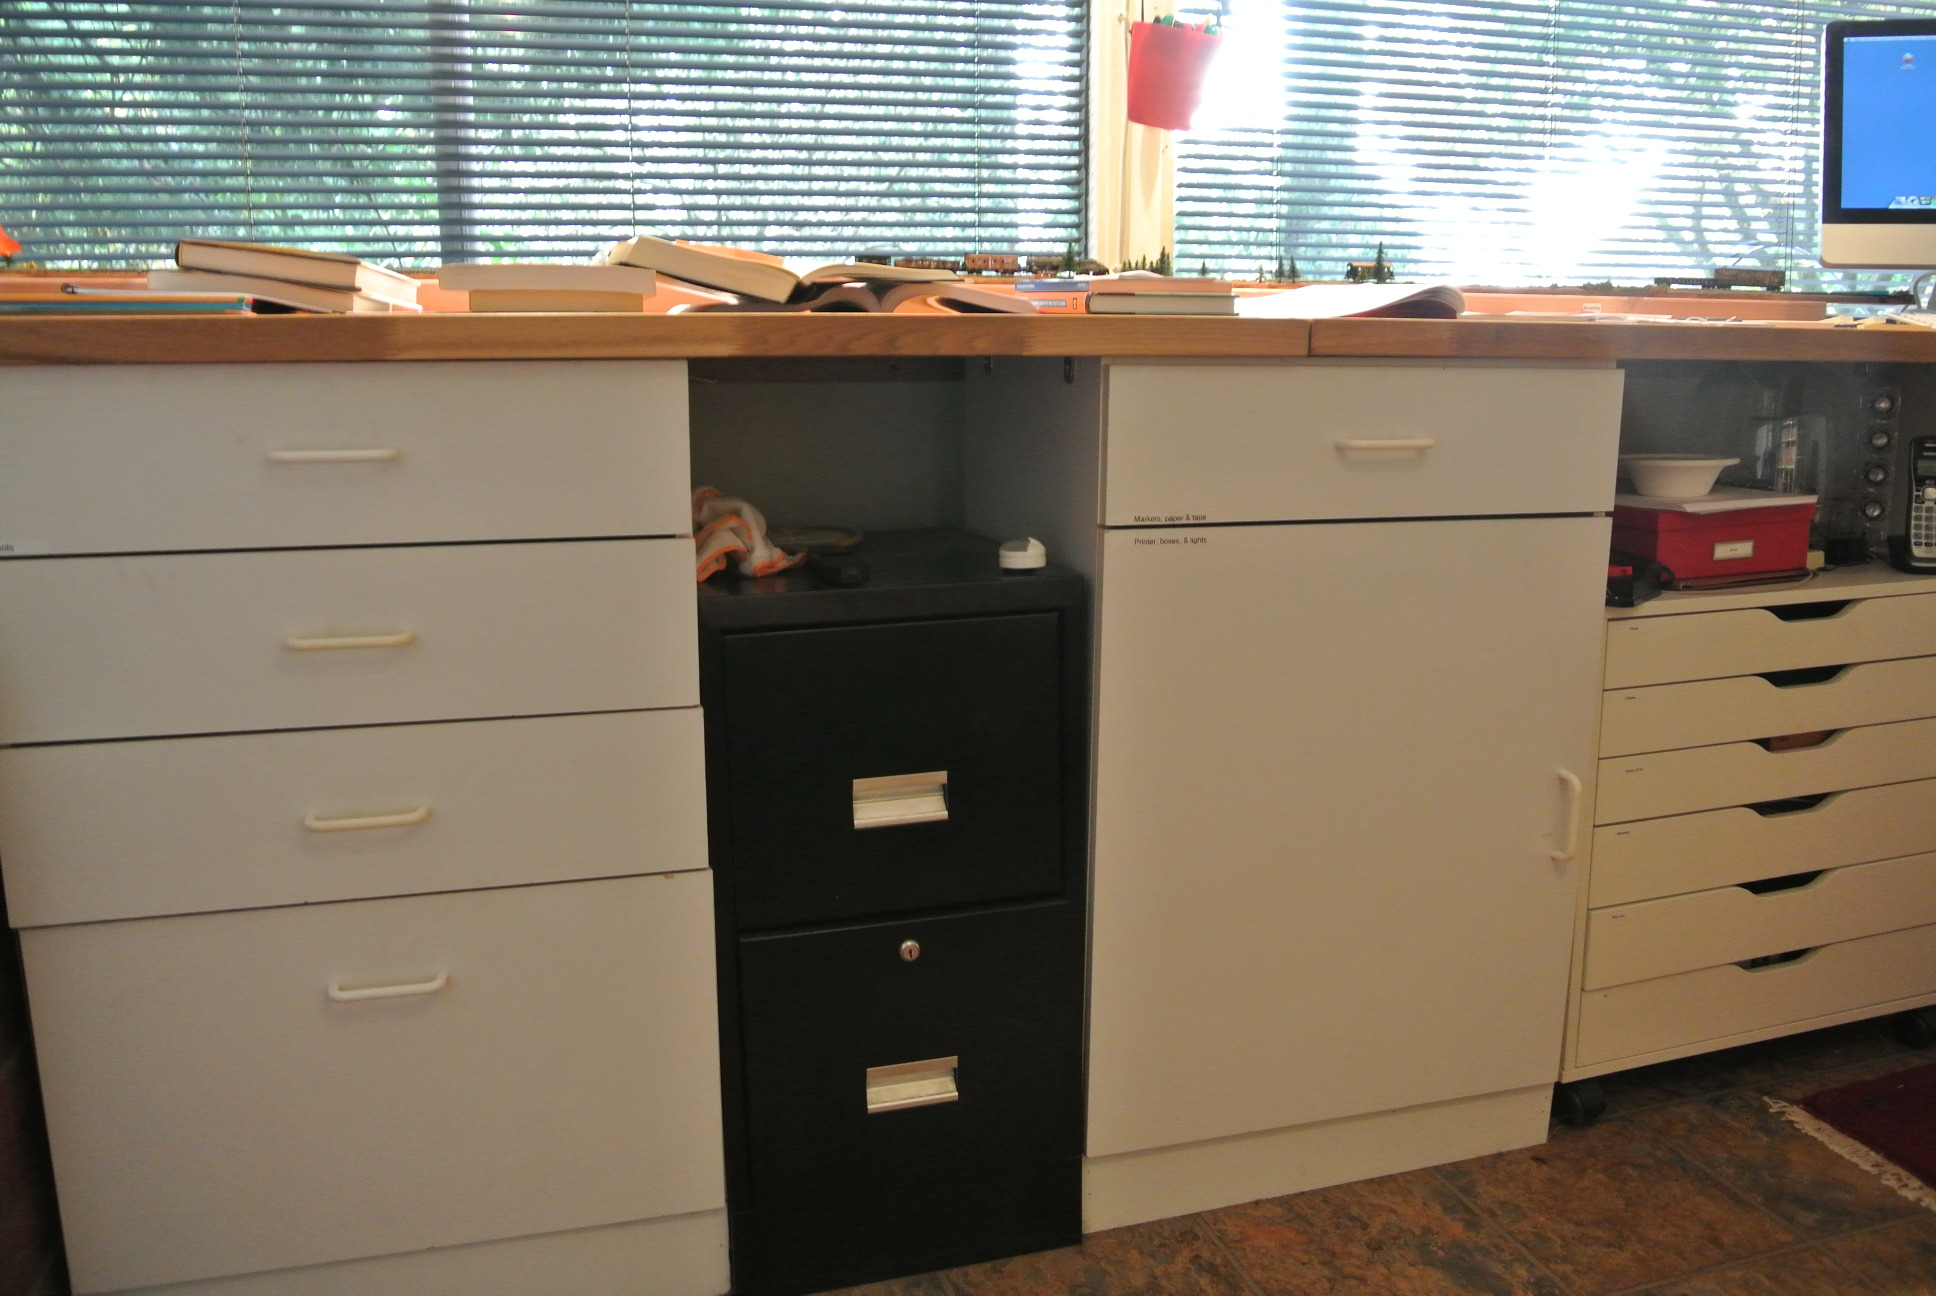cabinet door: (1112, 535, 1590, 1075), (17, 904, 727, 1253), (1, 525, 698, 732), (0, 363, 708, 532), (33, 723, 711, 894), (711, 631, 1077, 913), (720, 916, 1080, 1195), (1103, 359, 1606, 525), (1589, 969, 1936, 1073), (1611, 558, 1936, 661), (1586, 871, 1936, 965), (1599, 790, 1936, 877), (1618, 655, 1936, 742), (1575, 729, 1936, 797)
handle: (834, 759, 964, 835), (276, 613, 428, 670), (298, 796, 445, 842), (1330, 421, 1450, 476), (318, 973, 453, 1021), (872, 1046, 961, 1114), (263, 435, 406, 476), (1747, 783, 1843, 833), (1738, 934, 1830, 985), (1739, 862, 1839, 908), (1549, 765, 1588, 878), (1749, 722, 1848, 761), (1757, 662, 1856, 699), (1771, 589, 1856, 625)
